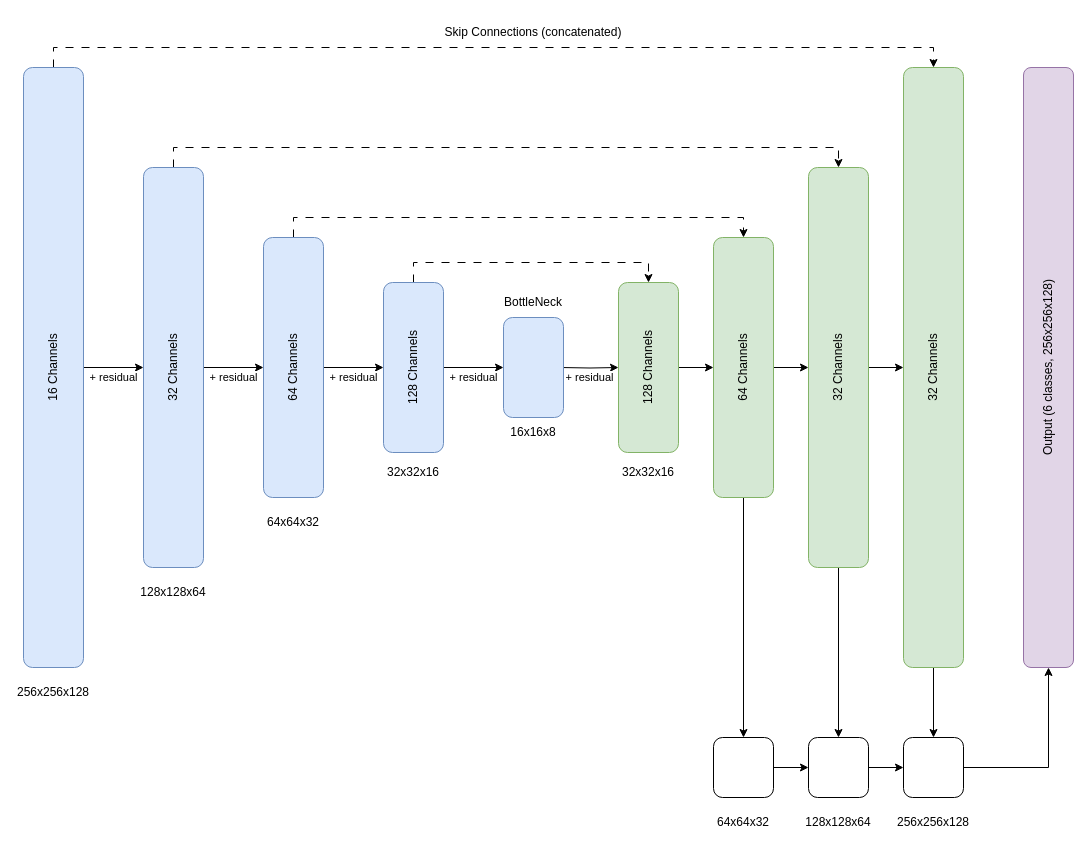
This 1091x854 diagram has some shape labels left out. The shapes that lost their labels are listed below. From the top down, each one's box as (x1, y1, x2, y2) in pixels, then its label:
(502, 316, 564, 418): 256 Channels
(712, 736, 774, 798): Seg 3
(808, 736, 868, 798): Seg 2 +
(902, 736, 964, 798): Seg 1 +
